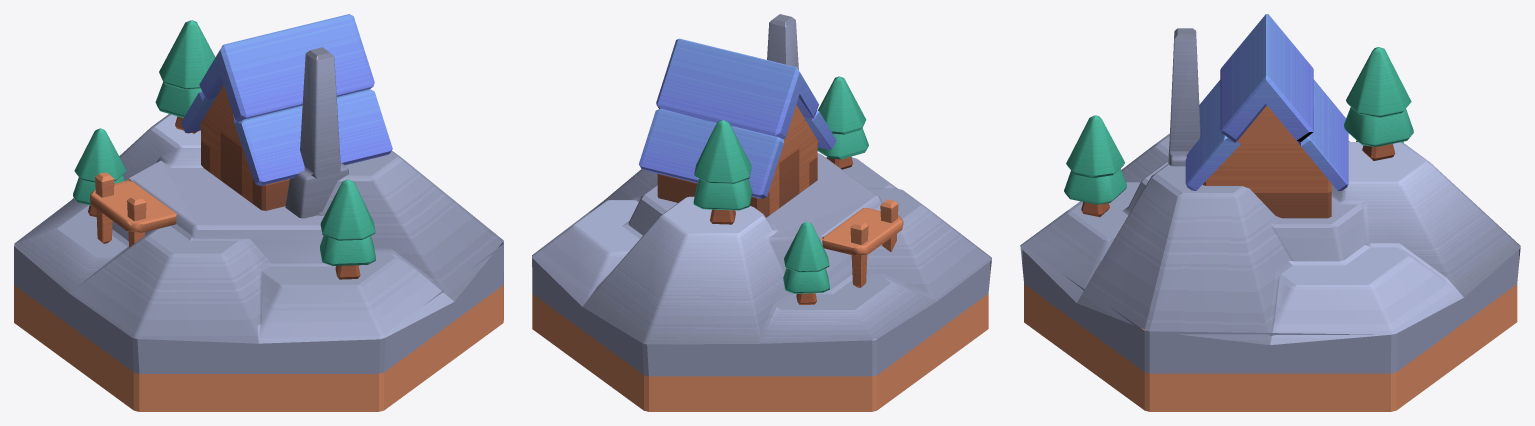
File: kenney-hexagon__building-cabin.glb
The picture shows the model from 3 angles, left to right: view 1: azimuth 30°, elevation 25°; view 2: azimuth 150°, elevation 25°; view 3: azimuth 270°, elevation 25°; orthographic projection. The views are drawn at different scales.
Visible parts, largest first — view 1: building-cabin; view 2: building-cabin; view 3: building-cabin.
Boxes of the visible parts, box(x1,y1,x2,y2) form: building-cabin: box(14, 14, 503, 411); building-cabin: box(532, 14, 991, 411); building-cabin: box(1020, 14, 1520, 411).
Size of the model in its own units: 1.03 by 0.7684 by 1.16.
Materials: 1 (1 with a texture image).
